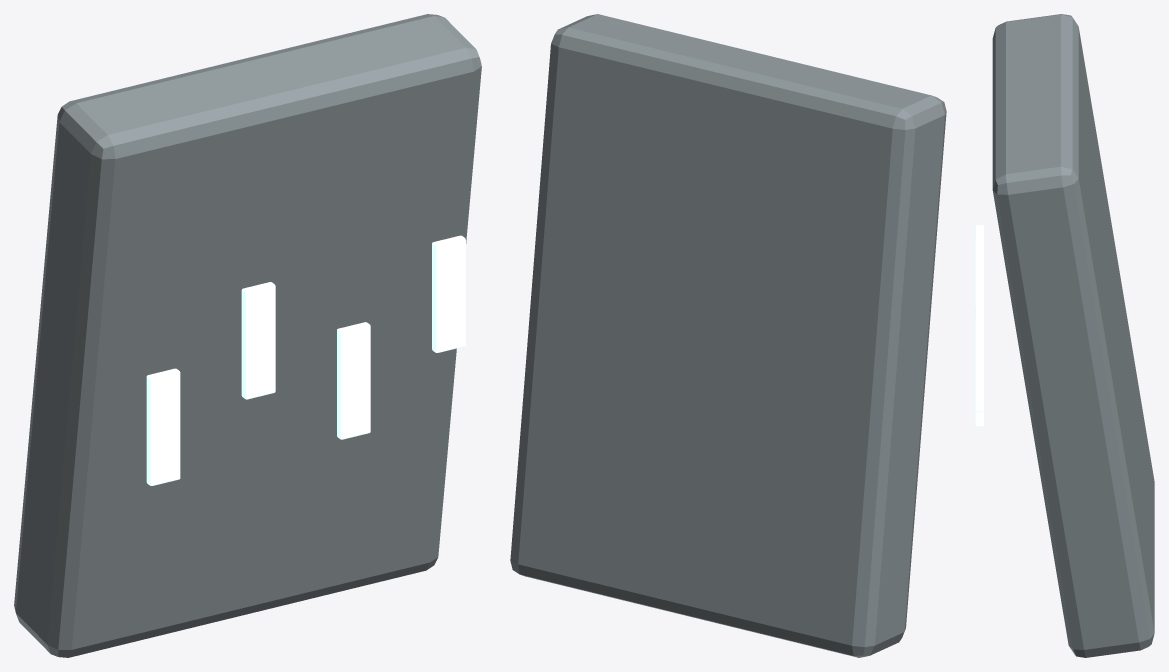
File: prop_oath_rubbing_v1.glb
3 views of the same model, side by side, from view 1: azimuth 30°, elevation 25°; view 2: azimuth 150°, elevation 25°; view 3: azimuth 270°, elevation 25° (orthographic). The views are drawn at different scales.
Parts seen in each view (by area): view 1: RubbingSlab, RubbingMark_0, RubbingMark_1, RubbingMark_2, RubbingMark_3; view 2: RubbingSlab; view 3: RubbingSlab, RubbingMark_3, RubbingMark_1.
Boxes of the visible parts, x1,y1,x2,y2 form: RubbingSlab: [14, 14, 481, 657]; RubbingMark_0: [146, 368, 180, 485]; RubbingMark_1: [241, 282, 275, 399]; RubbingMark_2: [337, 322, 370, 439]; RubbingMark_3: [432, 235, 465, 352]; RubbingSlab: [510, 14, 946, 657]; RubbingSlab: [992, 14, 1154, 657]; RubbingMark_3: [975, 306, 983, 412]; RubbingMark_1: [975, 225, 983, 306].
Bounding box in the file's own units: 0.45 × 0.6226 × 0.2061.
